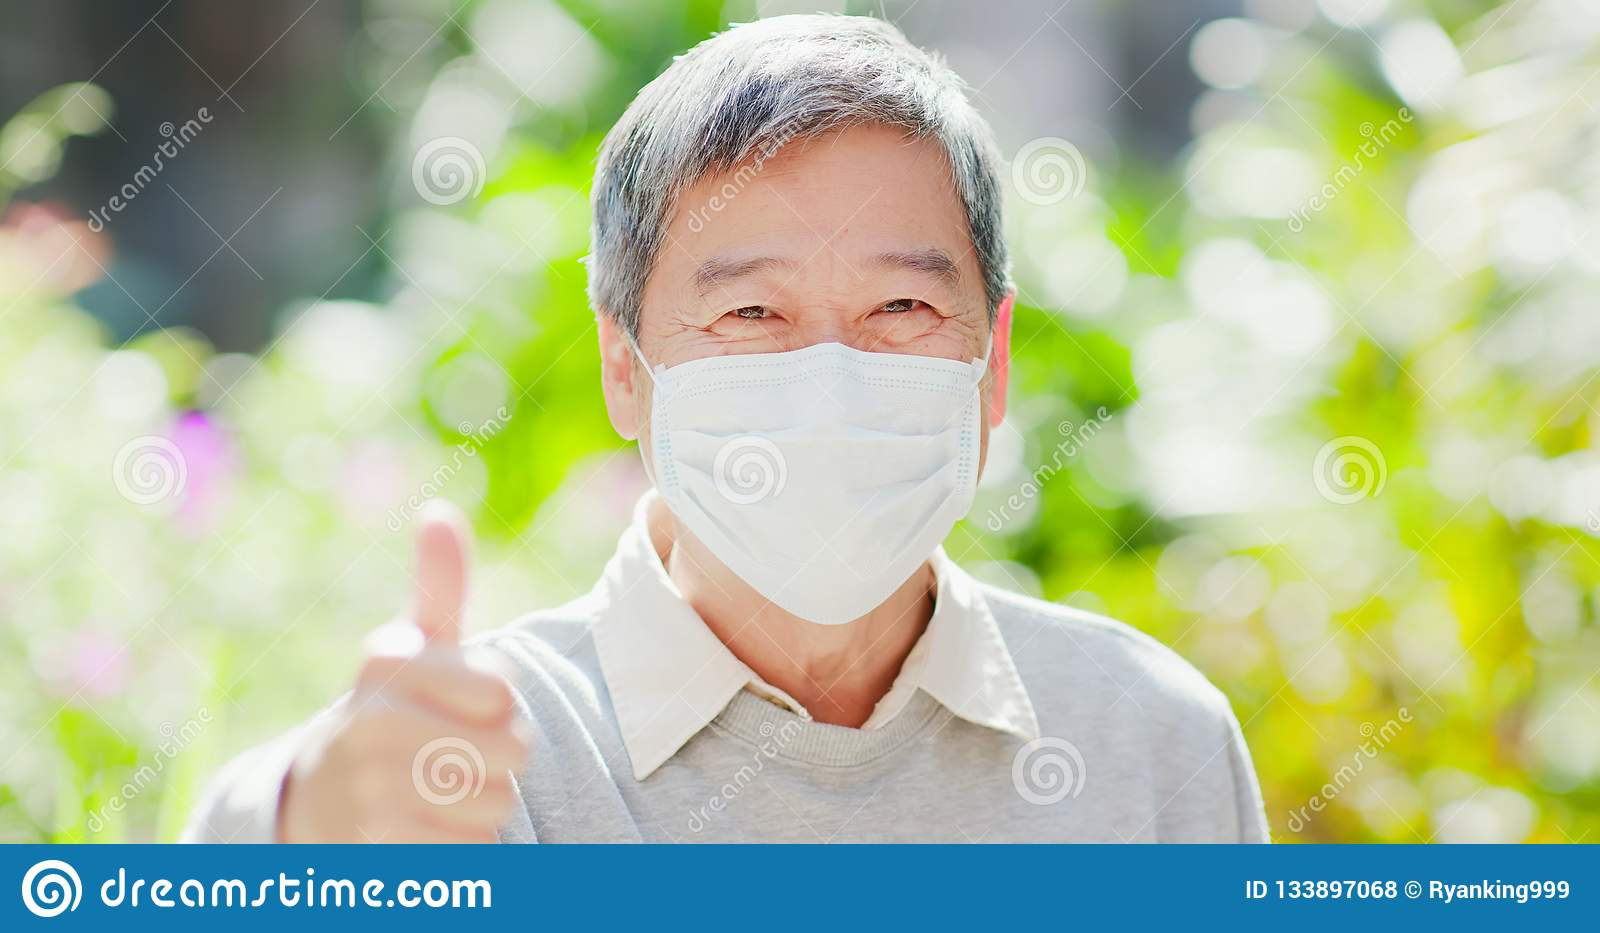mask: (658, 348, 983, 629)
